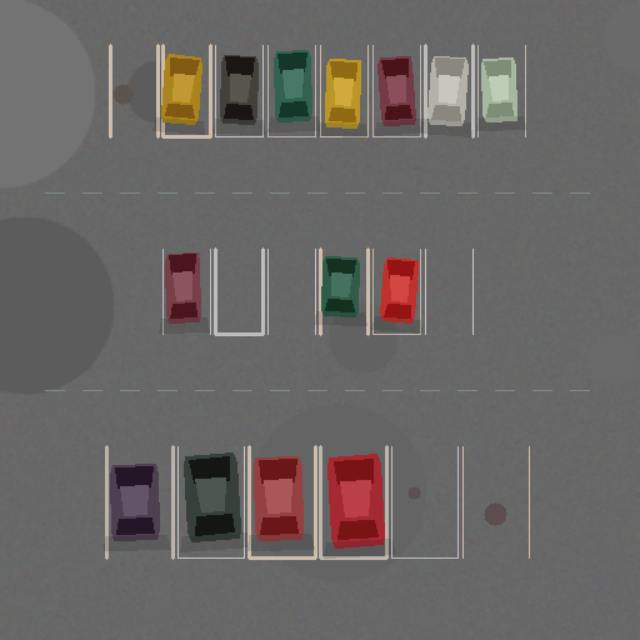space-empty: (391, 446, 458, 558), (462, 446, 529, 558), (110, 45, 157, 136), (215, 249, 263, 334), (267, 249, 315, 334), (425, 249, 473, 334)
space-occupied: (106, 446, 172, 558), (178, 446, 244, 558), (249, 446, 315, 558), (320, 446, 386, 558), (215, 45, 263, 136), (267, 45, 315, 136), (425, 45, 473, 136), (477, 45, 525, 136), (163, 45, 210, 136), (320, 45, 367, 136), (373, 45, 420, 136), (163, 249, 210, 334), (320, 249, 367, 334), (373, 249, 420, 334)
